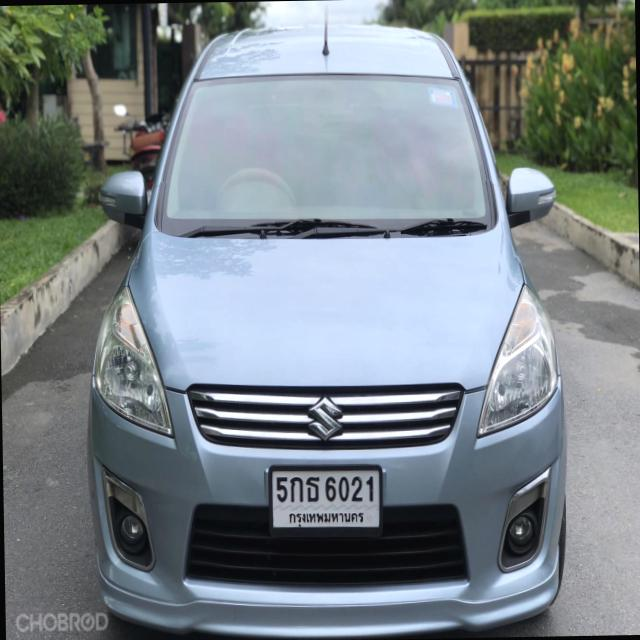license_plate: (262, 456, 387, 540)
